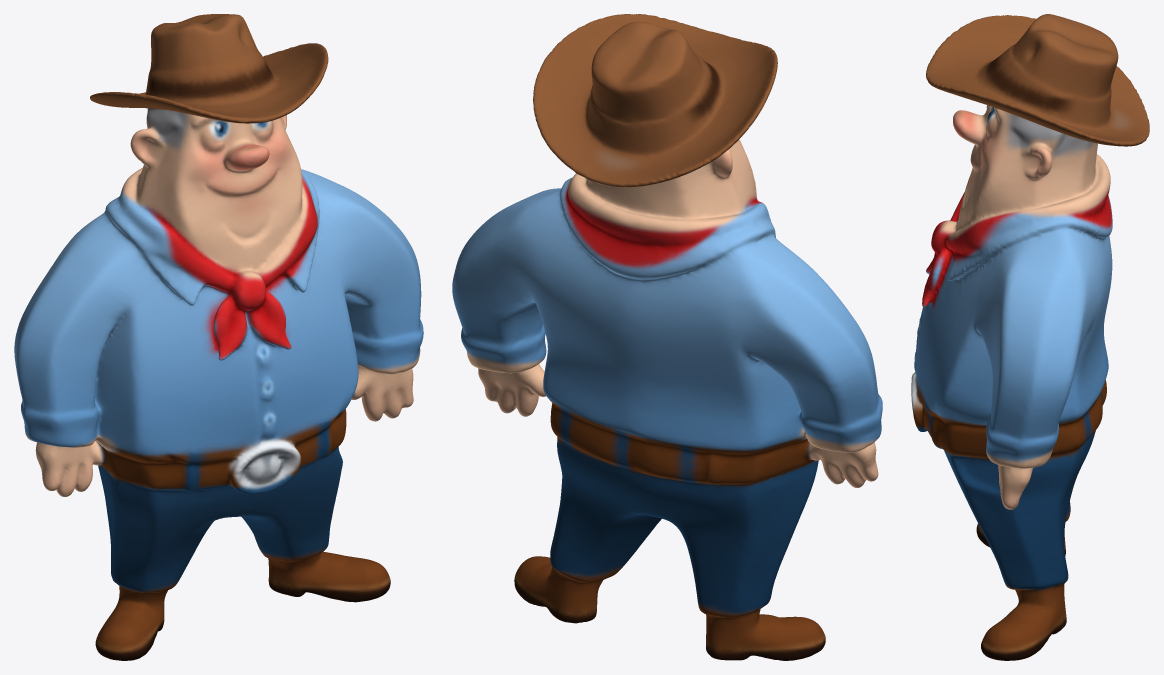
The model's file is character.glb.
3 renders of one model, left to right at view 1: azimuth 30°, elevation 25°; view 2: azimuth 150°, elevation 25°; view 3: azimuth 270°, elevation 25°, orthographic. The views are drawn at different scales.
Parts seen in each view (by area): view 1: CowboyCharacter; view 2: CowboyCharacter; view 3: CowboyCharacter.
Part boxes in pixels (x1=…): CowboyCharacter: x1=14, y1=14, x2=423, y2=660; CowboyCharacter: x1=452, y1=14, x2=882, y2=660; CowboyCharacter: x1=911, y1=14, x2=1149, y2=660.
Bounding box in the file's own units: 1.24 × 1.75 × 0.6648.
8 materials, 8 textured.
